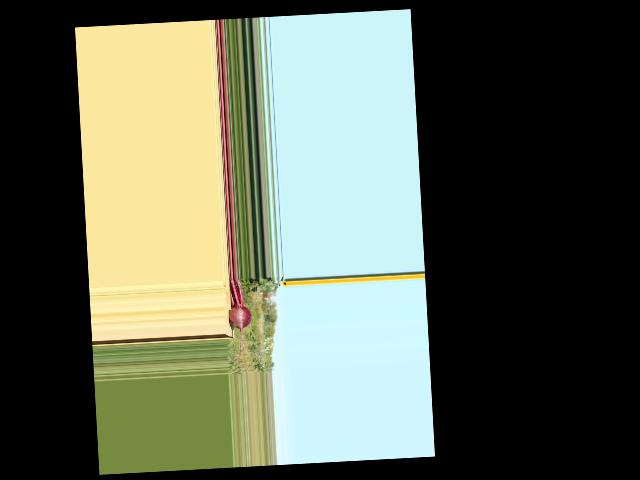beet: (226, 277, 253, 371)
